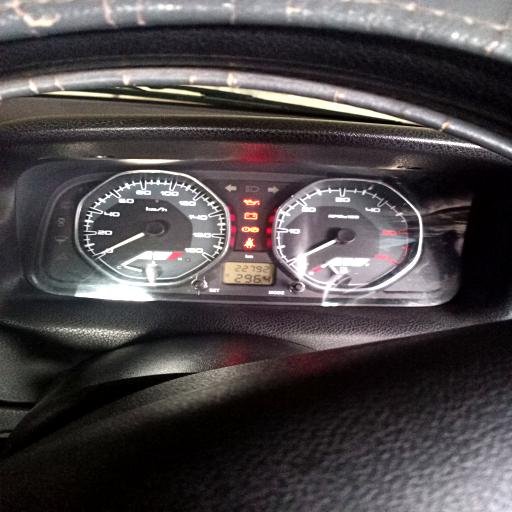belt: (244, 237, 255, 249)
brake_system_fault: (242, 226, 250, 232)
oil: (243, 199, 261, 206)
tachometer: (277, 177, 424, 293)
vehicle_charging: (244, 212, 258, 220)
